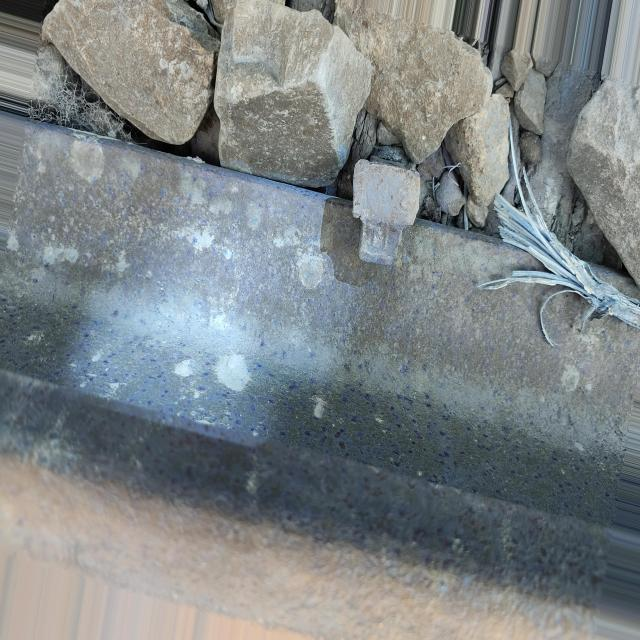Good Fasteners: (353, 159, 420, 264)
